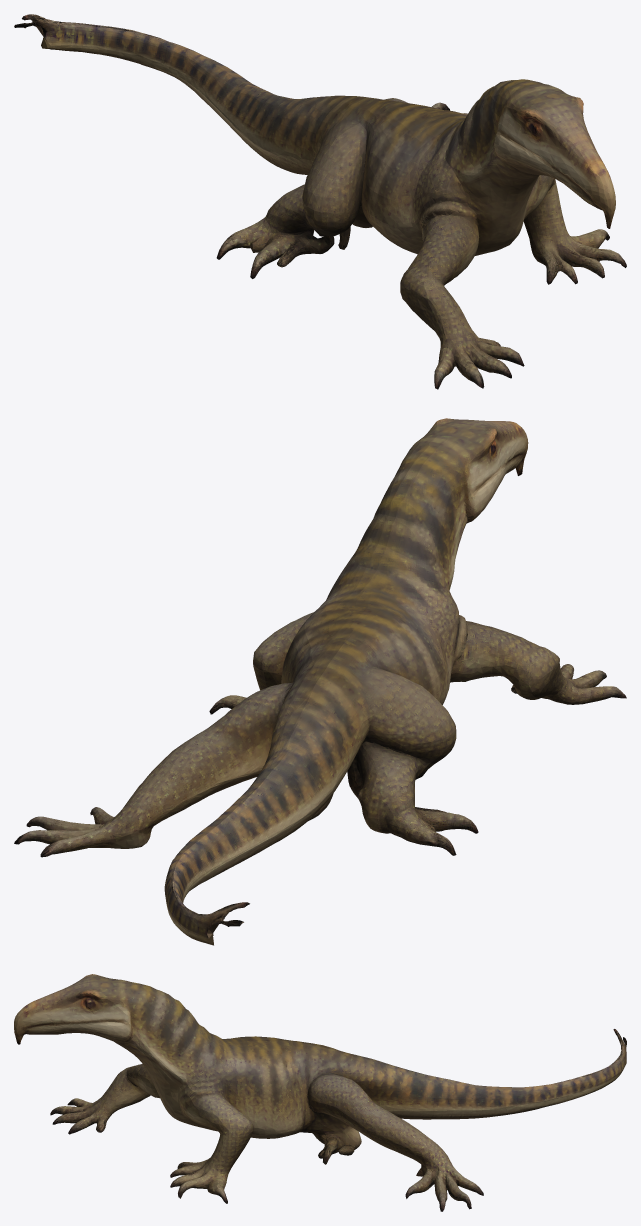
3 views of the same model, one above another, from view 1: azimuth 30°, elevation 25°; view 2: azimuth 150°, elevation 25°; view 3: azimuth 270°, elevation 25° (orthographic). The views are drawn at different scales.
Visible parts, largest first — view 1: world; view 2: world; view 3: world.
Part boxes in pixels (x1=…): world: x1=14, y1=14, x2=626, y2=389; world: x1=14, y1=418, x2=626, y2=945; world: x1=14, y1=974, x2=626, y2=1211.
Size of the model in its own units: 1.11 by 0.7773 by 2.5.
Materials: 1 (1 with a texture image).
